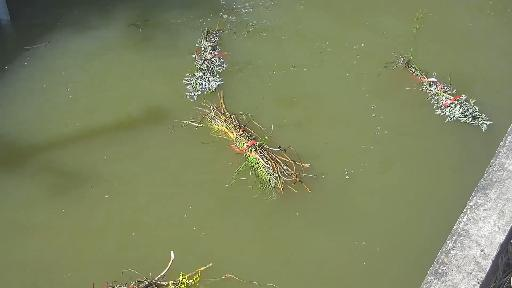leaf: (122, 22, 158, 28)
twig: (190, 94, 344, 204), (399, 7, 498, 154), (86, 253, 300, 288), (184, 22, 226, 92)
